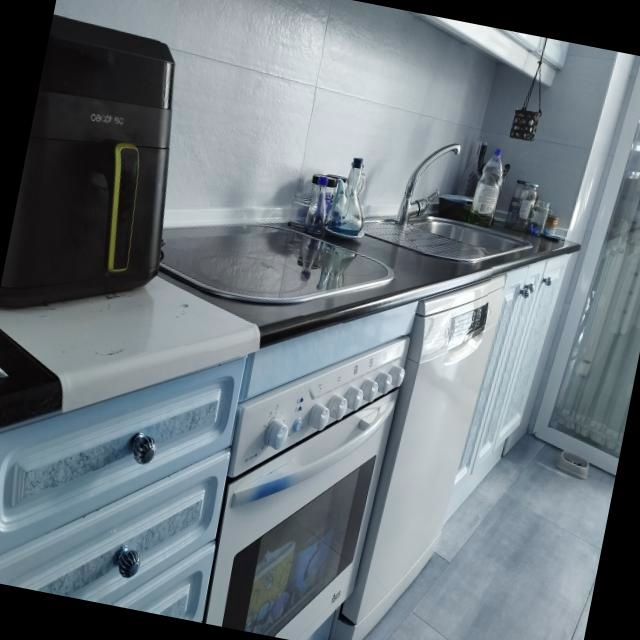cabinet: (0, 358, 247, 622), (444, 254, 570, 524), (404, 10, 570, 85)
countertop: (0, 238, 579, 431)
oven: (201, 337, 410, 640)
shower: (363, 145, 533, 264)
sofa: (159, 225, 395, 306)
